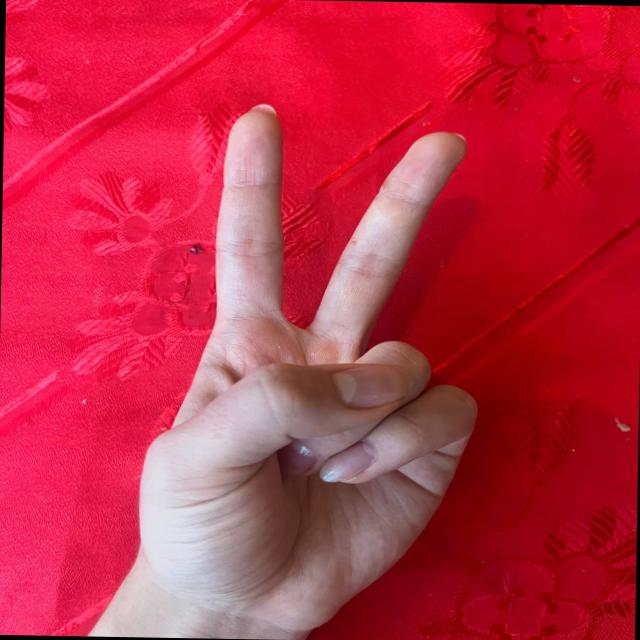k: (126, 84, 489, 598)
